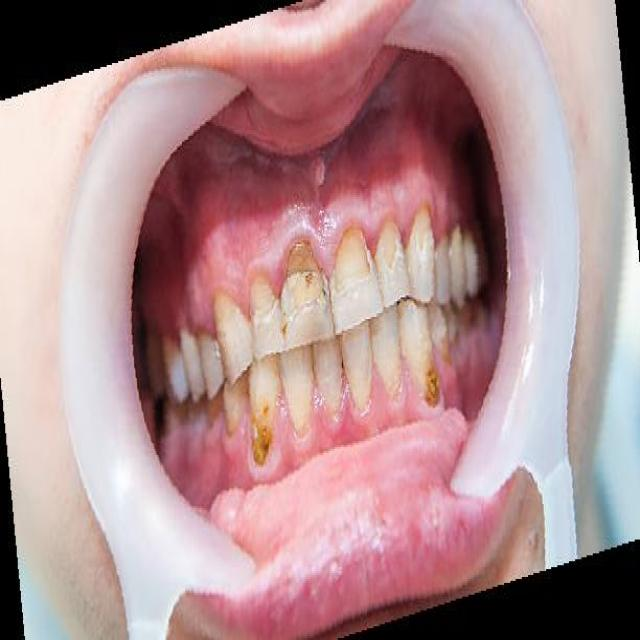caries: (282, 238, 328, 314), (331, 221, 373, 297), (248, 273, 280, 330), (376, 215, 402, 276), (413, 200, 436, 256)
